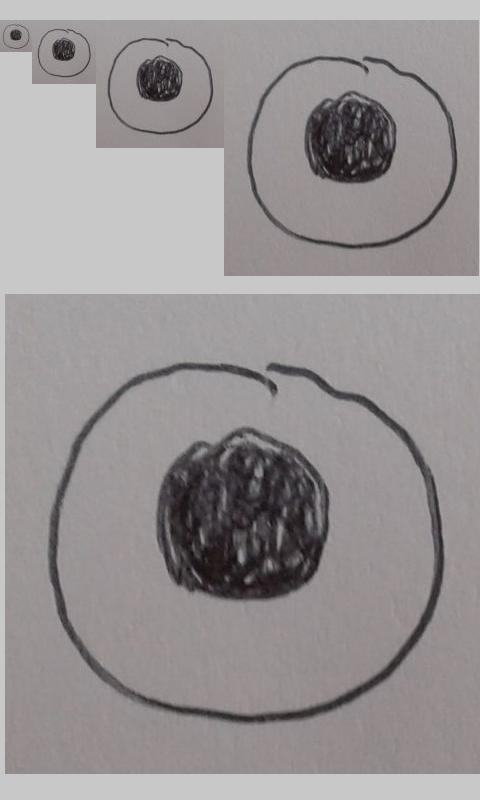radio_button: (42, 356, 448, 729), (245, 54, 458, 250), (106, 36, 215, 136), (37, 28, 91, 78), (2, 23, 30, 50)
